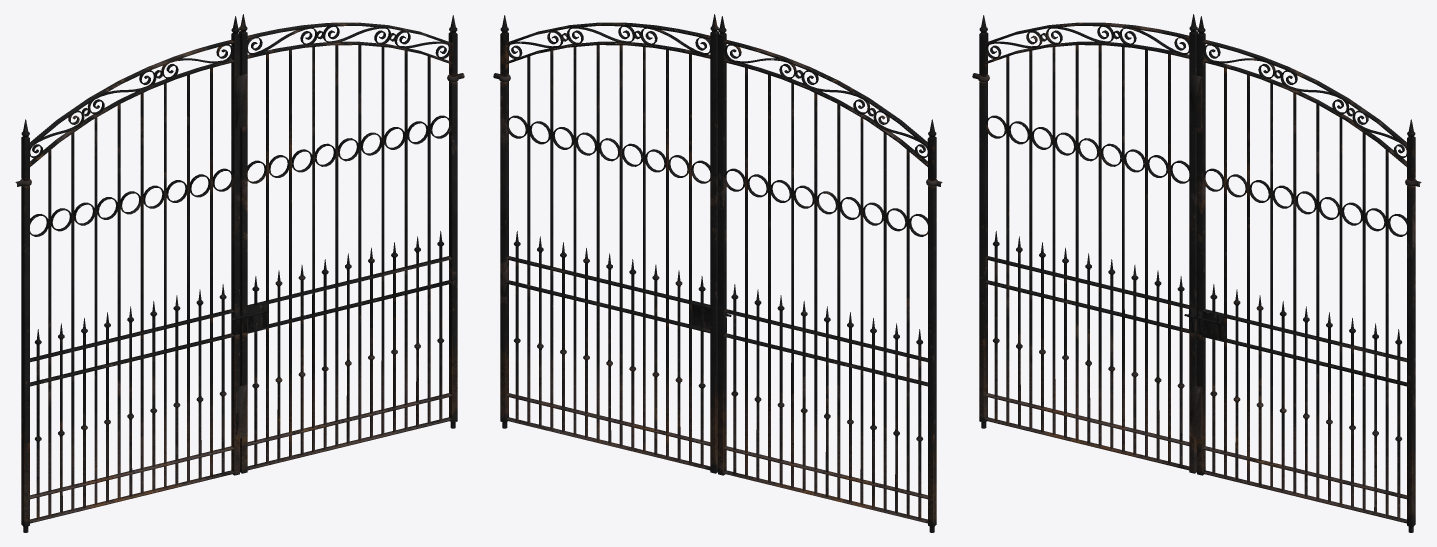
File: iron_gate.glb
The picture shows the model from 3 angles, left to right: view 1: azimuth 30°, elevation 25°; view 2: azimuth 150°, elevation 25°; view 3: azimuth 330°, elevation 25°; orthographic projection.
Visible parts, largest first — view 1: iron_gate; view 2: iron_gate; view 3: iron_gate.
Part boxes in pixels (x1,y1,x2,y2): iron_gate: (15,14,464,532); iron_gate: (493,14,942,532); iron_gate: (972,14,1421,532).
Size of the model in its own units: 2.95 by 2.93 by 0.0973.
Materials: 1 (1 with a texture image).
